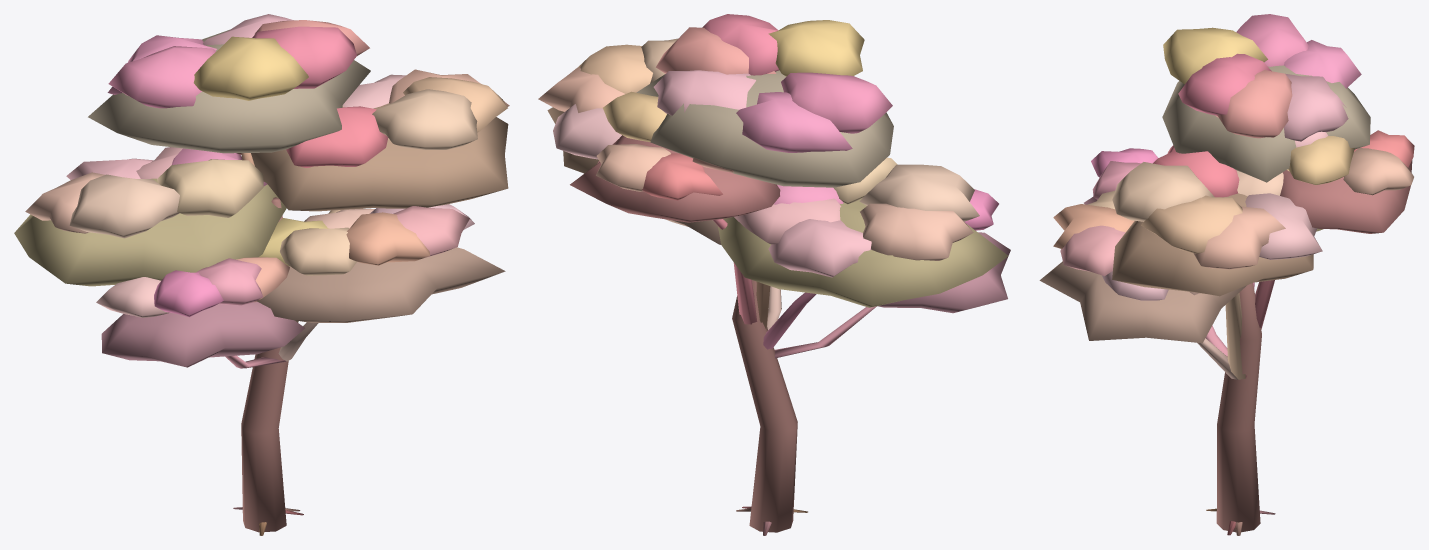
The model's file is WC_RIVER_Tree_Small_A.glb.
3 views of the same model, side by side, from view 1: azimuth 30°, elevation 25°; view 2: azimuth 150°, elevation 25°; view 3: azimuth 270°, elevation 25° (orthographic). The views are drawn at different scales.
Parts seen in each view (by area): view 1: WC_RIVER_Tree_Small_A_RenderMesh; view 2: WC_RIVER_Tree_Small_A_RenderMesh; view 3: WC_RIVER_Tree_Small_A_RenderMesh.
Part boxes in pixels (x1=…): WC_RIVER_Tree_Small_A_RenderMesh: x1=14, y1=14, x2=509, y2=535; WC_RIVER_Tree_Small_A_RenderMesh: x1=538, y1=14, x2=1010, y2=535; WC_RIVER_Tree_Small_A_RenderMesh: x1=1039, y1=14, x2=1414, y2=535.
Size of the model in its own units: 1.76 by 1.82 by 1.3.
